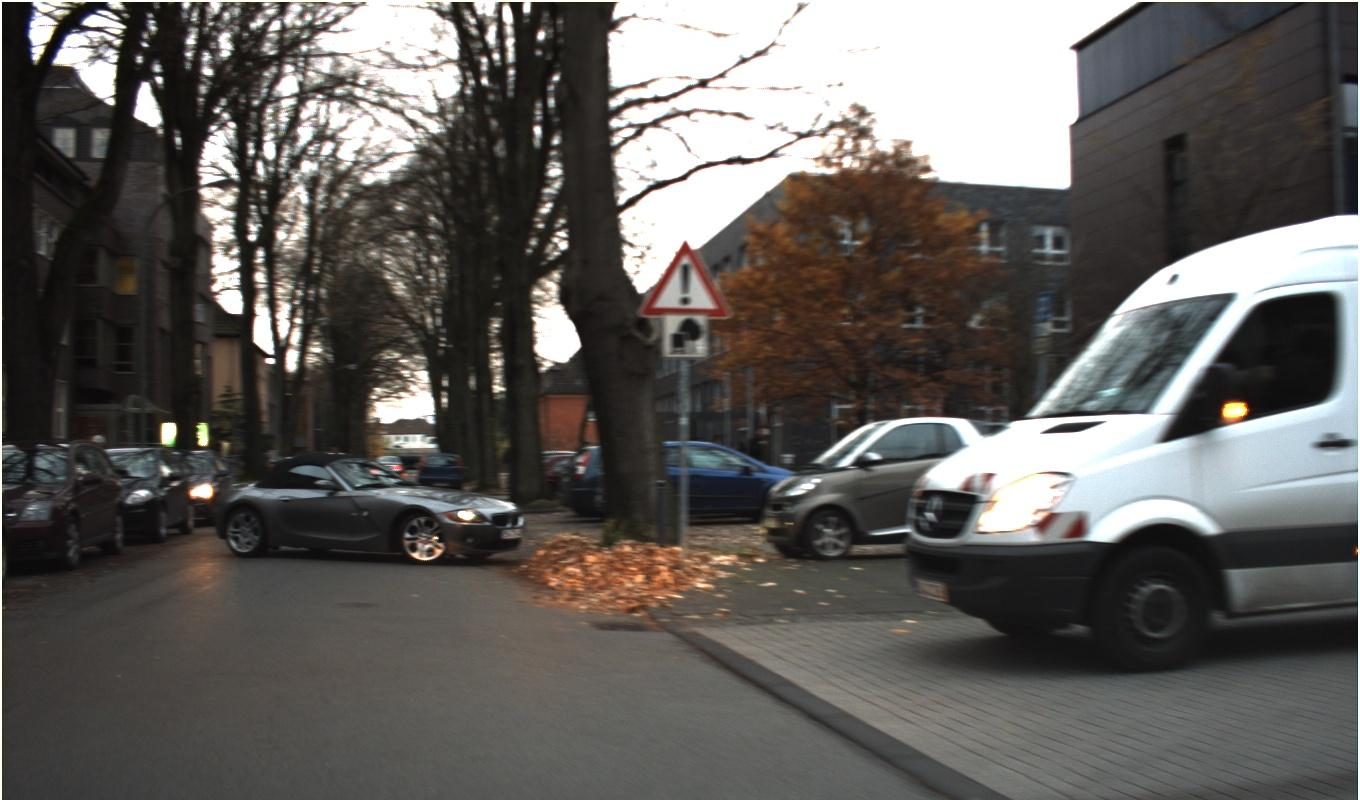danger: (272, 80, 1004, 399)
